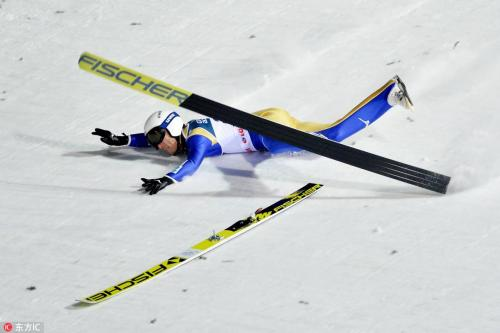fall: (84, 60, 428, 200)
